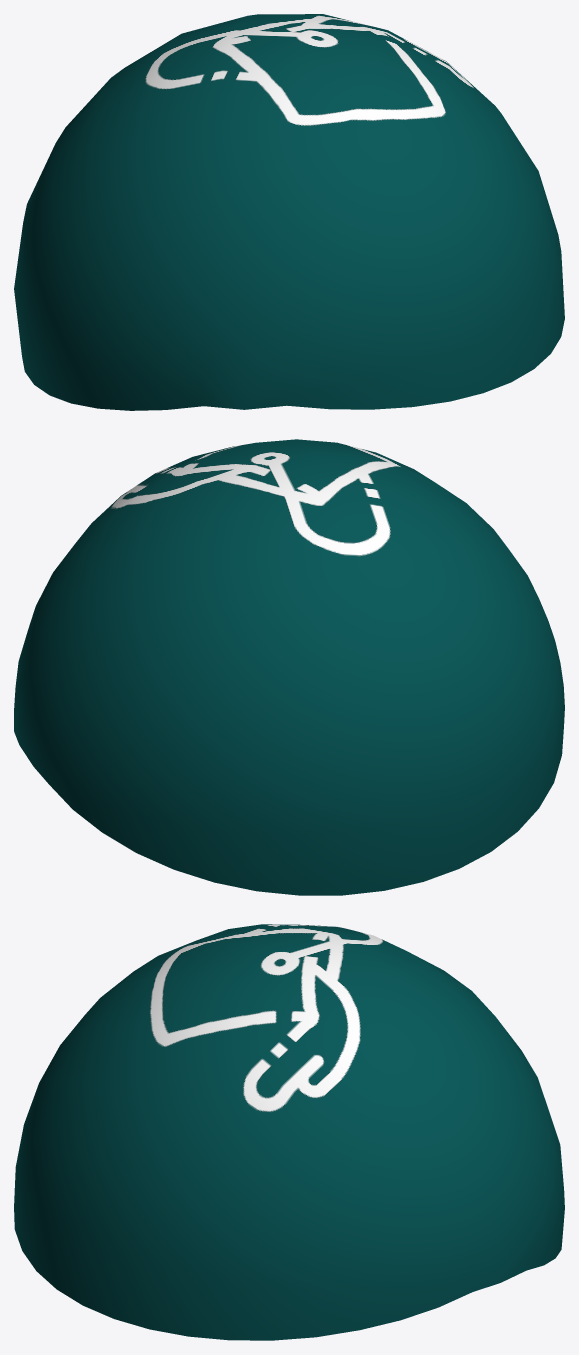
Rendered from Palette_Button_Painter.fbx.
The picture shows the model from 3 angles, top to bottom: view 1: azimuth 30°, elevation 25°; view 2: azimuth 150°, elevation 25°; view 3: azimuth 270°, elevation 25°; orthographic projection.
Parts seen in each view (by area): view 1: pSphere43; view 2: pSphere43; view 3: pSphere43.
Boxes of the visible parts, <box> form: pSphere43: <box>14,14,564,410</box>; pSphere43: <box>14,439,564,895</box>; pSphere43: <box>14,924,564,1340</box>.
Size of the model in its own units: 2.91 by 1.87 by 2.91.
1 material, 1 textured.
